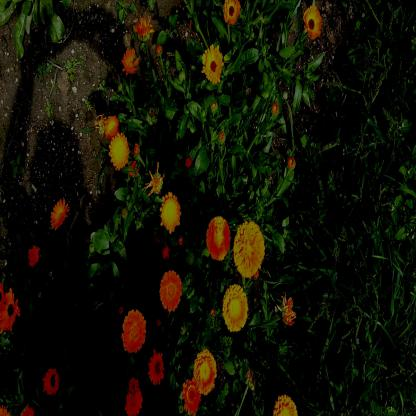marigold: (233, 224, 264, 277), (223, 286, 247, 332), (207, 216, 230, 262), (123, 312, 146, 354), (195, 353, 217, 393), (160, 272, 182, 311), (162, 196, 181, 232), (203, 45, 221, 83), (111, 132, 128, 168), (305, 7, 321, 39), (149, 351, 162, 384), (225, 0, 239, 22)
